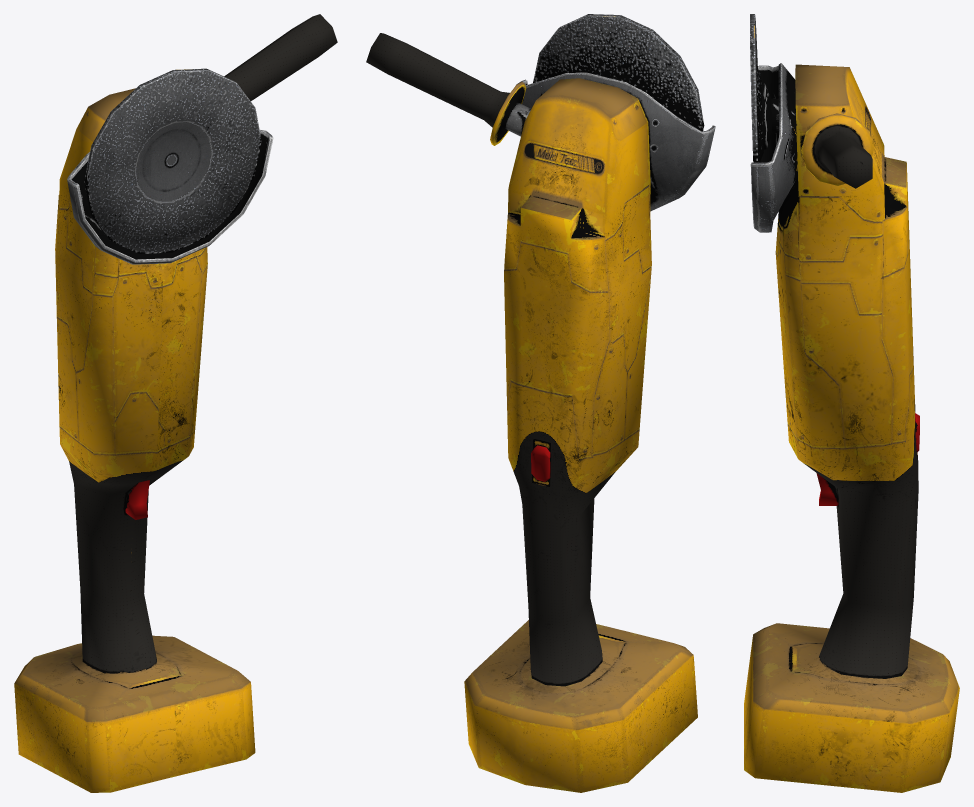
File: Powerdisk_separated.fbx
The picture shows the model from 3 angles, left to right: view 1: azimuth 30°, elevation 25°; view 2: azimuth 150°, elevation 25°; view 3: azimuth 270°, elevation 25°; orthographic projection. The views are drawn at different scales.
Parts seen in each view (by area): view 1: sm_power_disc_a1, sm_power_disc_a1.001; view 2: sm_power_disc_a1, sm_power_disc_a1.001; view 3: sm_power_disc_a1, sm_power_disc_a1.001.
Boxes of the visible parts, x1=… form: sm_power_disc_a1: x1=14, y1=14, x2=337, y2=792; sm_power_disc_a1.001: x1=84, y1=68, x2=261, y2=253; sm_power_disc_a1: x1=366, y1=33, x2=715, y2=792; sm_power_disc_a1.001: x1=533, y1=14, x2=704, y2=131; sm_power_disc_a1: x1=744, y1=63, x2=959, y2=792; sm_power_disc_a1.001: x1=750, y1=14, x2=772, y2=162.
Size of the model in its own units: 20.18 by 45.57 by 12.12.
Materials: 1 (1 with a texture image).
